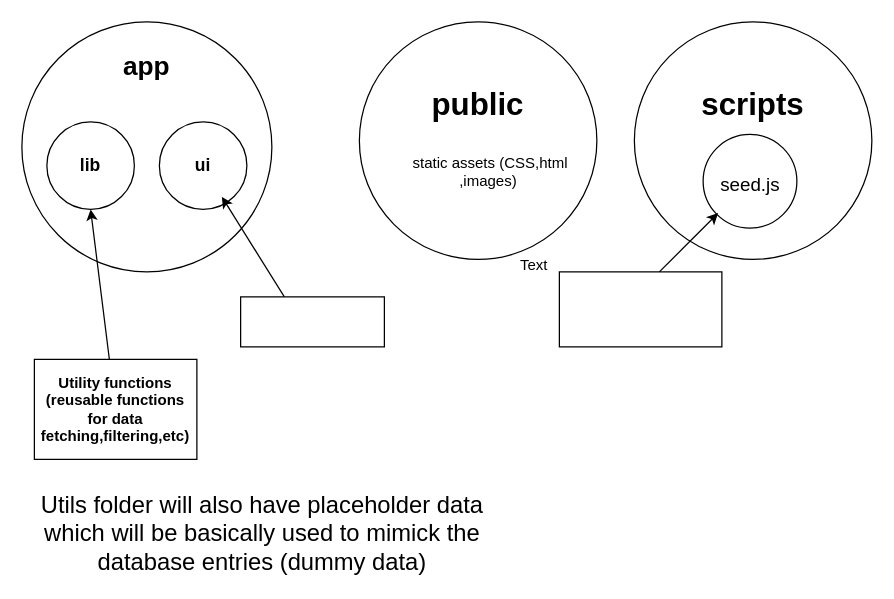
Image size: 894x599. Some labels were removed from this diagram. The shapes that lost their labels are listed below. From the top down, each one's centre as x and y in pixels, then its label:
At point 311,321: "Components".
At point 640,309: "Script that will be used to populate the database with data".
